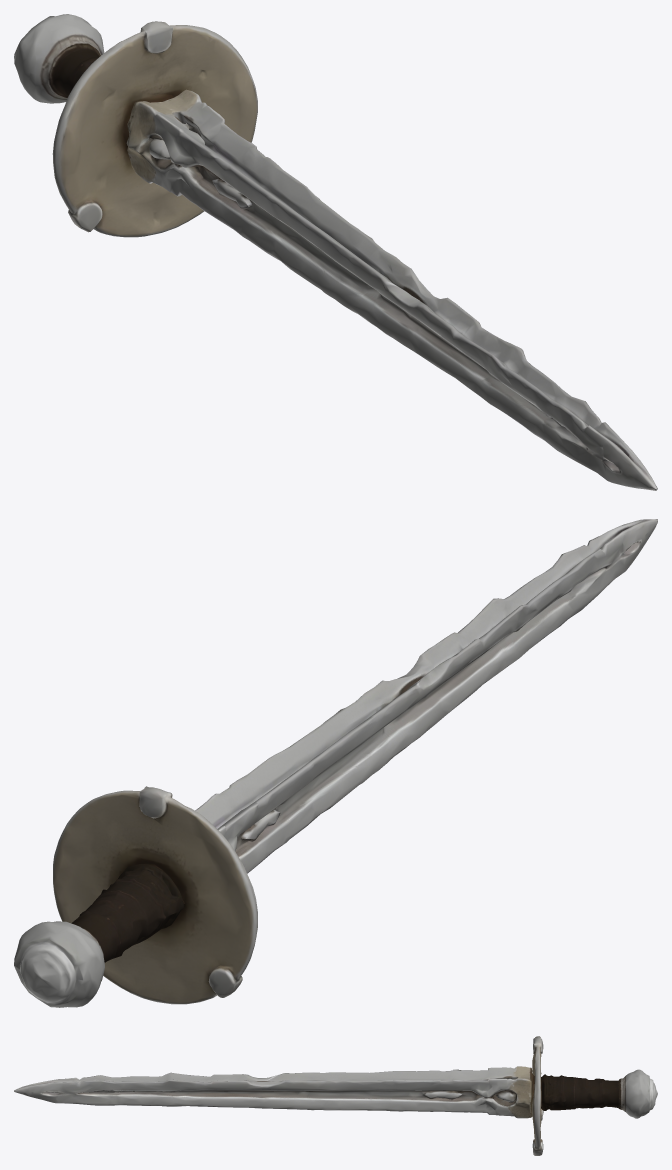
The model's file is sol_mod_sword_silver.glb.
3 renders of one model, top to bottom at view 1: azimuth 30°, elevation 25°; view 2: azimuth 150°, elevation 25°; view 3: azimuth 270°, elevation 25°, orthographic. The views are drawn at different scales.
Visible parts, largest first — view 1: tripo_node_0f508bd0-28ce-433b-b705-2ac82624ecd4; view 2: tripo_node_0f508bd0-28ce-433b-b705-2ac82624ecd4; view 3: tripo_node_0f508bd0-28ce-433b-b705-2ac82624ecd4.
Boxes of the visible parts, x1,y1,x2,y2 form: tripo_node_0f508bd0-28ce-433b-b705-2ac82624ecd4: (14,14,657,490); tripo_node_0f508bd0-28ce-433b-b705-2ac82624ecd4: (14,519,657,1007); tripo_node_0f508bd0-28ce-433b-b705-2ac82624ecd4: (14,1036,657,1155).
Bounding box in the file's own units: 0.1905 × 0.19 × 1.
1 material, 1 textured.
